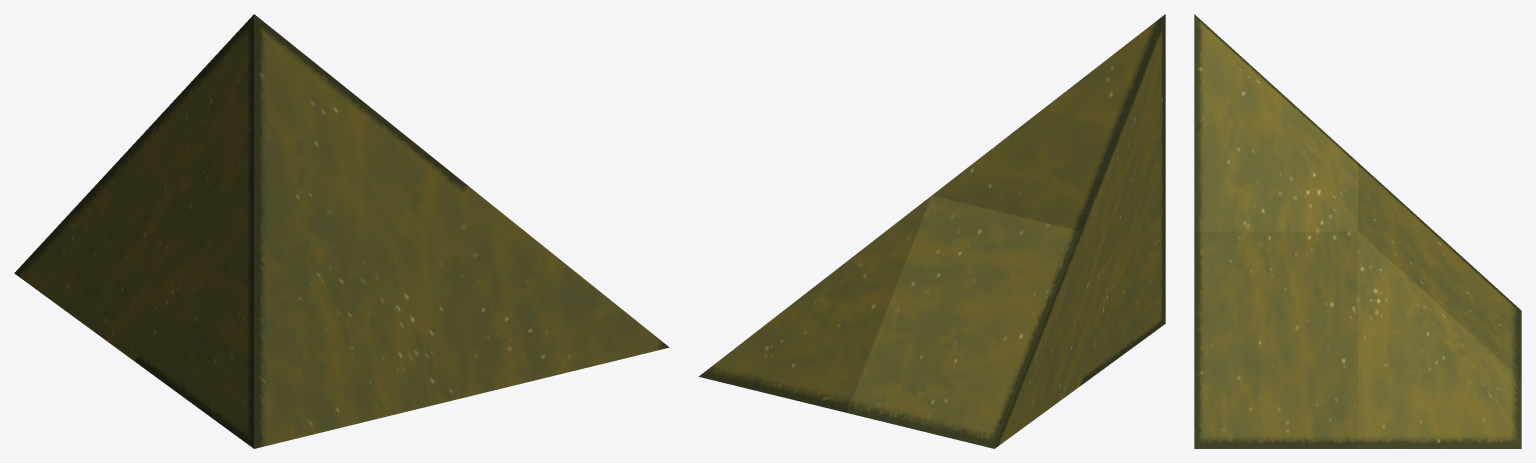
The model's file is 5_path.obj.
3 renders of one model, left to right at view 1: azimuth 30°, elevation 25°; view 2: azimuth 150°, elevation 25°; view 3: azimuth 270°, elevation 25°, orthographic. The views are drawn at different scales.
Visible parts, largest first — view 1: 5_path; view 2: 5_path; view 3: 5_path.
Part boxes in pixels (x1,y1,x2,y2): 5_path: (14,14,669,448); 5_path: (698,14,1165,448); 5_path: (1194,14,1521,448).
Size of the model in its own units: 1 by 1 by 1.
Materials: 1 (1 with a texture image).
